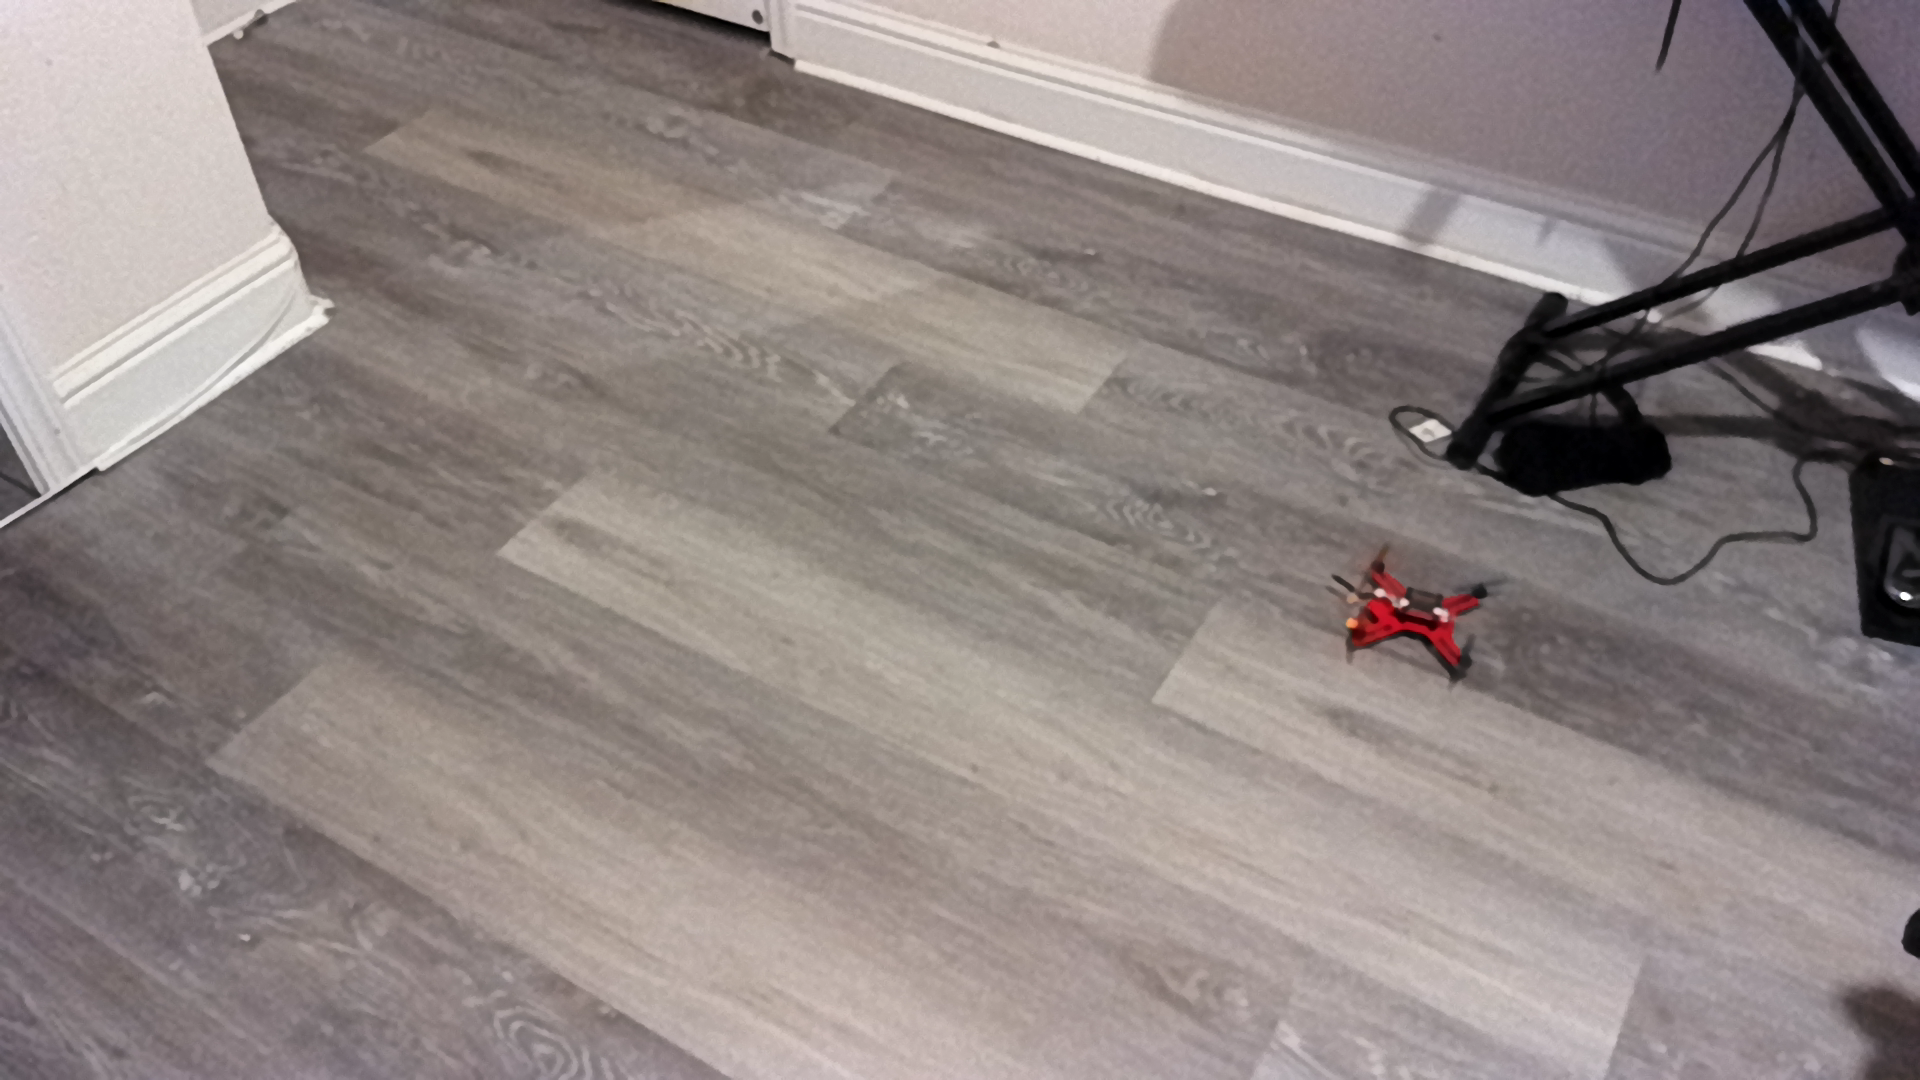drone: (1332, 539, 1528, 691)
